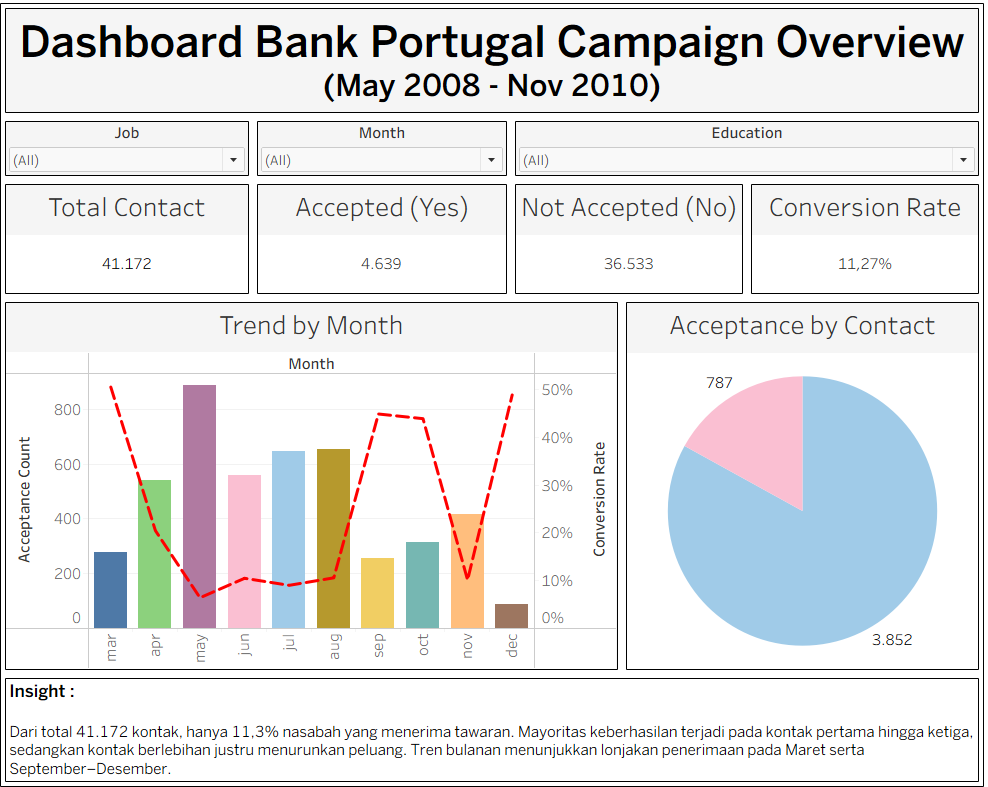

The dashboard page shown, as its layout file describes it:
{"tool":"tableau","page":{"name":"Bank Marketing Campaign Overview","canvas":[1000,800],"ordinal":0},"visuals":[{"type":"text","box":[9,9,982,113]},{"type":"filter","title":"Trend by Month","param":"[federated.1krqkaw1mb7cae1eg5kh71va5eoz].[none:job:nk]","box":[9,122,252,63]},{"type":"filter","title":"Trend by Month","param":"[federated.1krqkaw1mb7cae1eg5kh71va5eoz].[none:month:nk]","box":[261,122,258,63]},{"type":"filter","title":"Trend by Month","param":"[federated.1krqkaw1mb7cae1eg5kh71va5eoz].[none:education:nk]","box":[519,122,472,63]},{"type":"worksheet","title":"KPI – Total Contact","mark":"Automatic","box":[9,185,252,118]},{"type":"worksheet","title":"KPI - Accepted (Yes)","mark":"Automatic","box":[261,185,258,118]},{"type":"worksheet","title":"KPI - Not Accepted (No)","mark":"Automatic","box":[519,185,236,118]},{"type":"worksheet","title":"KPI – Conversion Rate","mark":"Automatic","box":[755,185,236,118]},{"type":"worksheet","title":"Trend by Month","mark":"Automatic","rows":["Calculation_1472114186410434571","Calculation_1472114186410524684"],"cols":["month"],"box":[9,303,620.7,376.3]},{"type":"worksheet","title":"Acceptance by Contact","mark":"Pie","box":[629.7,303,361.3,376.3]},{"type":"text","box":[9,679.3,982,111.7]}]}

Visuals, with their boxes in screenshot pixels (x1, y1, x2, y2), scaled from the page's 1000x800 canvas onto the 988x787 screenshot:
text: box=[9, 9, 979, 120]
"Trend by Month" filter: box=[9, 120, 258, 182]
"Trend by Month" filter: box=[258, 120, 513, 182]
"Trend by Month" filter: box=[513, 120, 979, 182]
"KPI – Total Contact" worksheet: box=[9, 182, 258, 298]
"KPI - Accepted (Yes)" worksheet: box=[258, 182, 513, 298]
"KPI - Not Accepted (No)" worksheet: box=[513, 182, 746, 298]
"KPI – Conversion Rate" worksheet: box=[746, 182, 979, 298]
"Trend by Month" worksheet: box=[9, 298, 622, 668]
"Acceptance by Contact" worksheet (Pie marks): box=[622, 298, 979, 668]
text: box=[9, 668, 979, 778]
